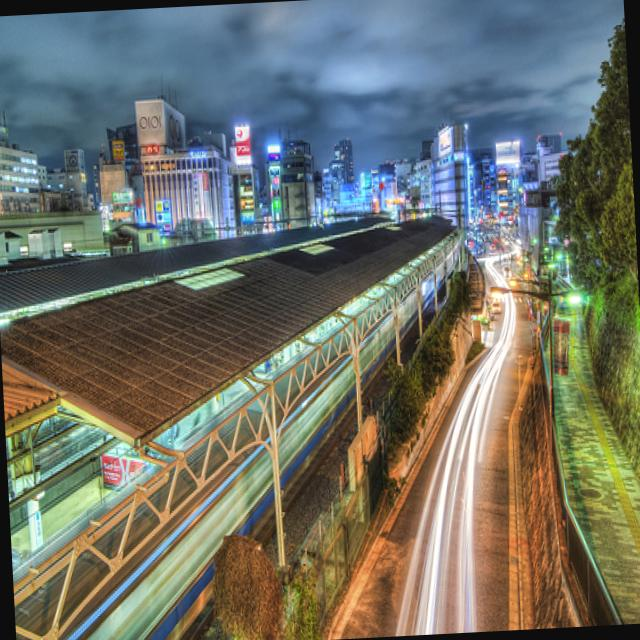Vehicle: (492, 303, 502, 314), (502, 266, 510, 278)
